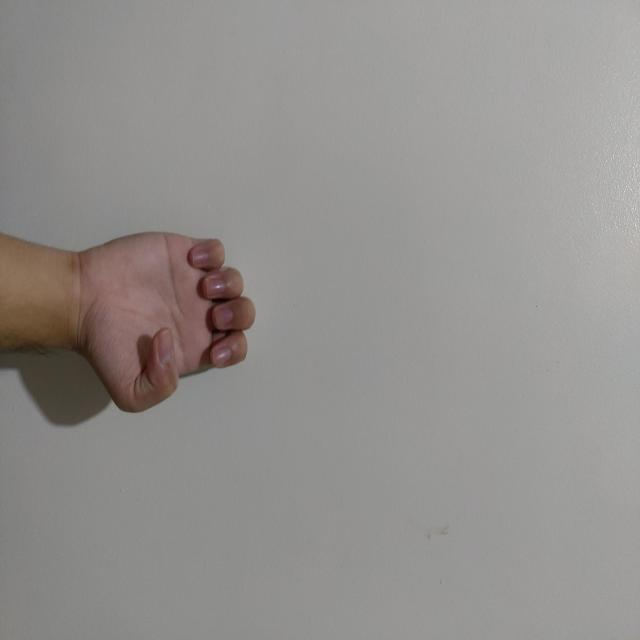E: (229, 384, 416, 567)
